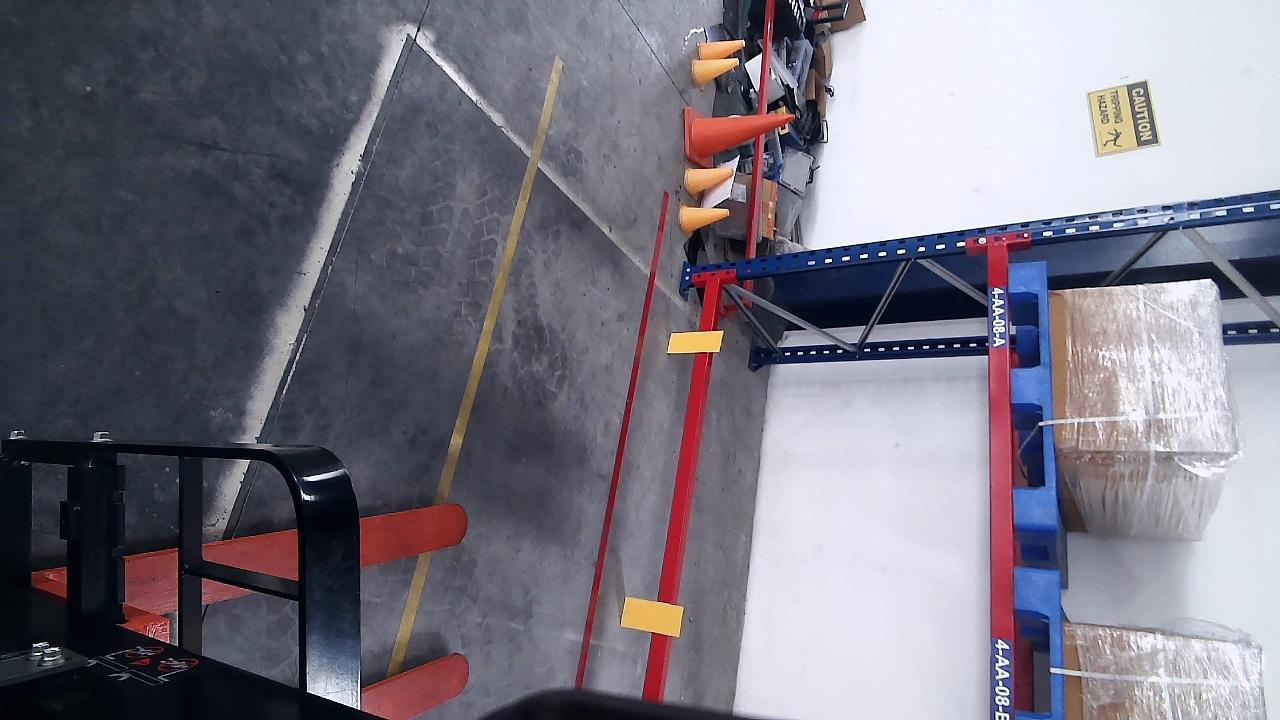h_rack: (643, 280, 719, 701), (986, 244, 1013, 719)
orange_strip: (619, 597, 682, 635), (668, 331, 722, 351)
red_line: (572, 192, 671, 689)
small_pallet: (1008, 261, 1061, 526), (1015, 565, 1062, 719)
yellow_line: (434, 54, 567, 501)
